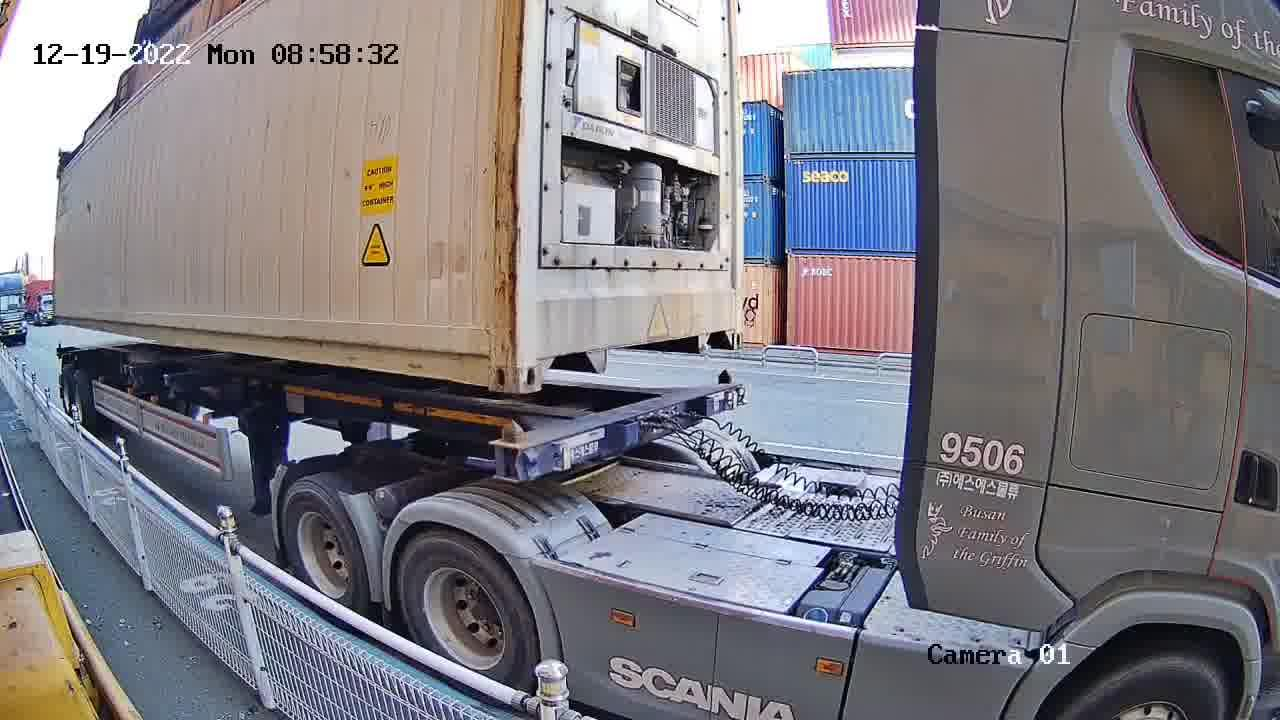Chassis: (494, 381, 739, 477)
Cone: (497, 419, 522, 479), (714, 368, 736, 402)
Hole_L: (519, 338, 562, 393)
Hole_R: (470, 333, 521, 397), (719, 320, 744, 351)
Tire: (397, 534, 534, 684), (279, 482, 360, 603)
